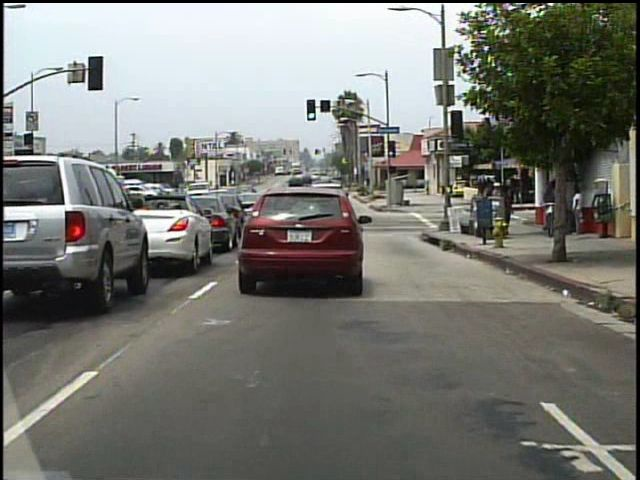person: (501, 182, 520, 236), (571, 186, 586, 237), (489, 181, 506, 223), (541, 182, 554, 228), (569, 183, 570, 239)
